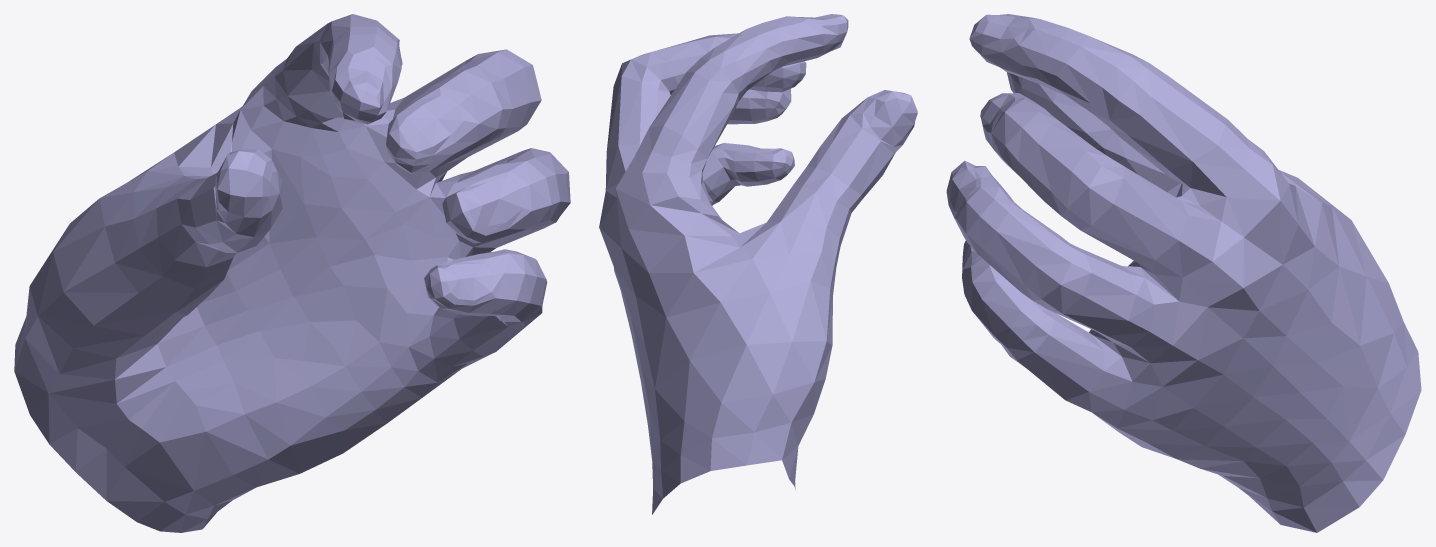
The model's file is hand_0113.glb.
3 renders of one model, left to right at view 1: azimuth 30°, elevation 25°; view 2: azimuth 150°, elevation 25°; view 3: azimuth 270°, elevation 25°, orthographic. The views are drawn at different scales.
Visible parts, largest first — view 1: world; view 2: world; view 3: world.
Part boxes in pixels (x1=…): world: x1=14, y1=14, x2=570, y2=532; world: x1=599, y1=14, x2=917, y2=514; world: x1=946, y1=14, x2=1421, y2=532.
Size of the model in its own units: 0.1001 by 0.1392 by 0.1175.
